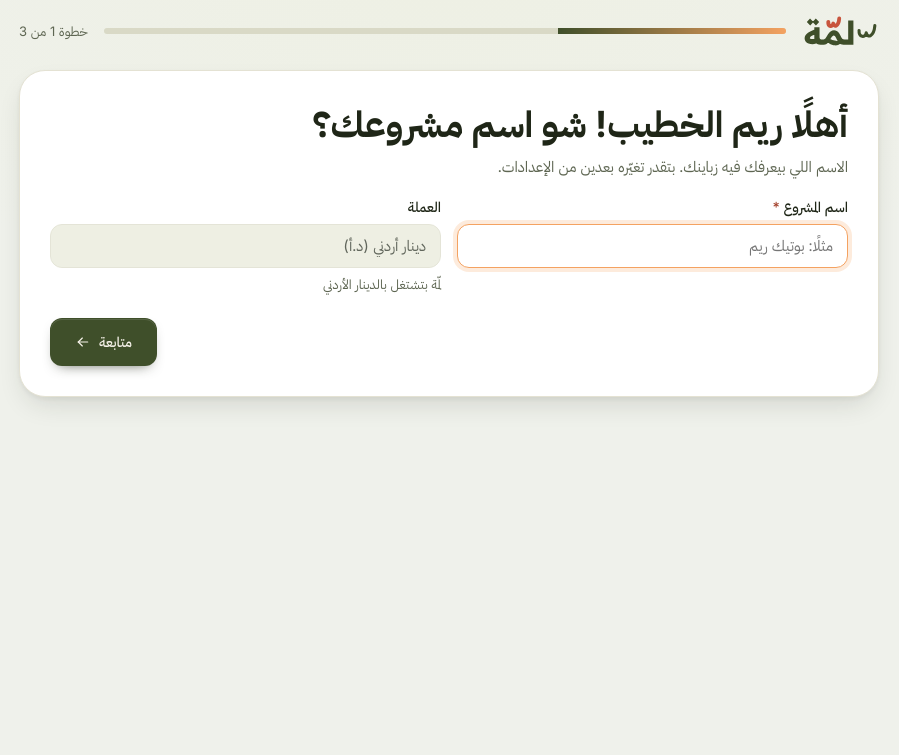
Scenario: onboarding › cannot finish with no channel selected
Type "x" into the field labelled "اسم المشروع *".
click(652, 246); type("x")  # box 470,225 -> 835,267
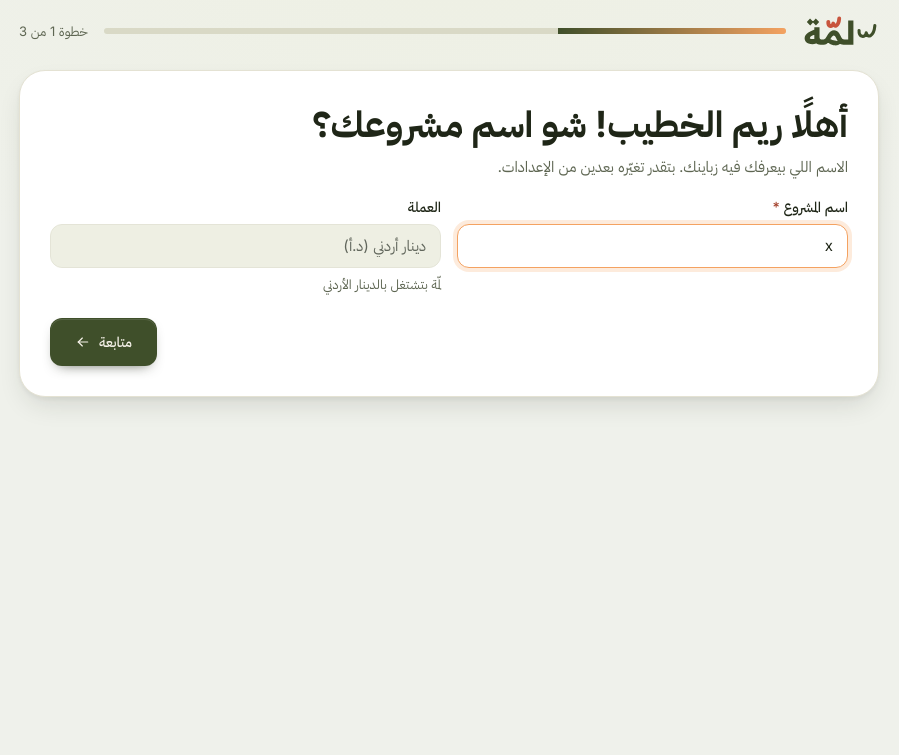
Click the button "متابعة".
click(103, 342)  # box 50,318 -> 157,366
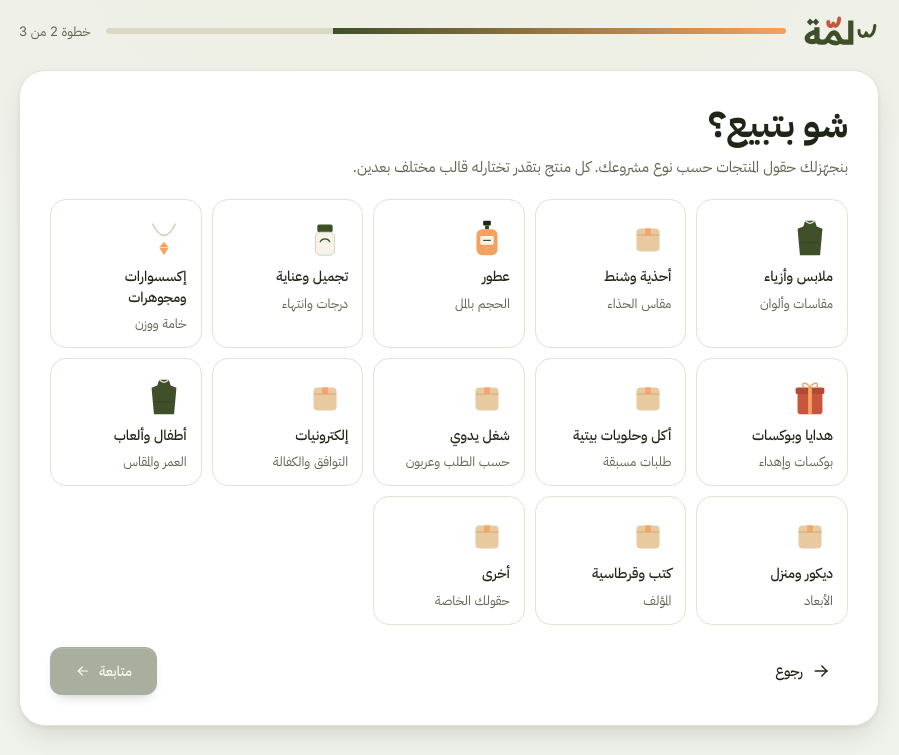
Click the radio button labelled "أخرى حقولك الخاصة".
click(449, 561)  # box 373,496 -> 525,625
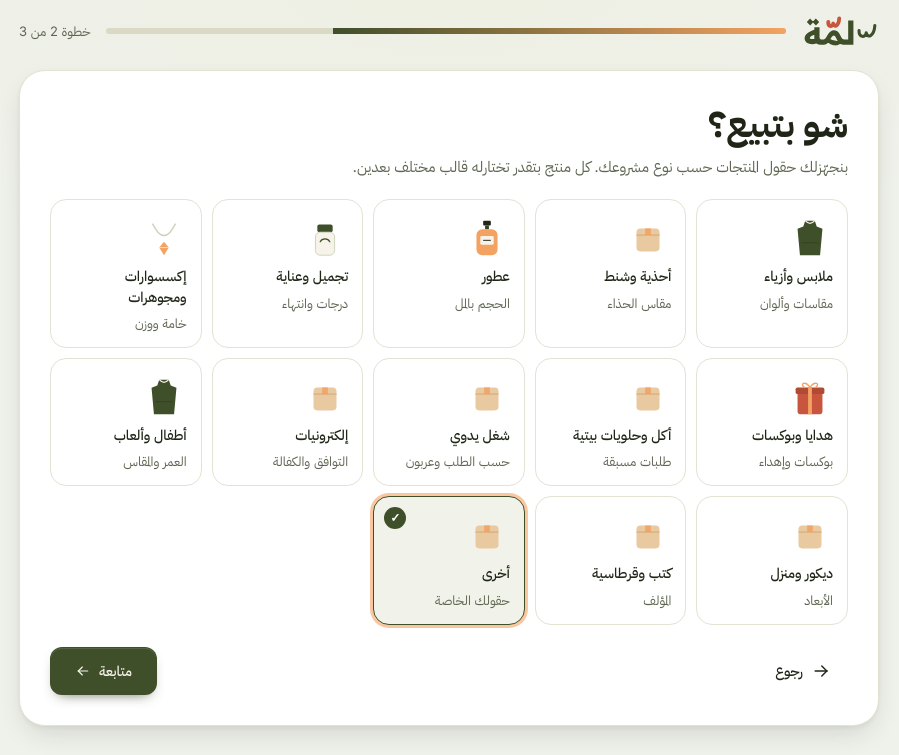
Click the button "متابعة".
click(103, 671)  # box 50,647 -> 157,695
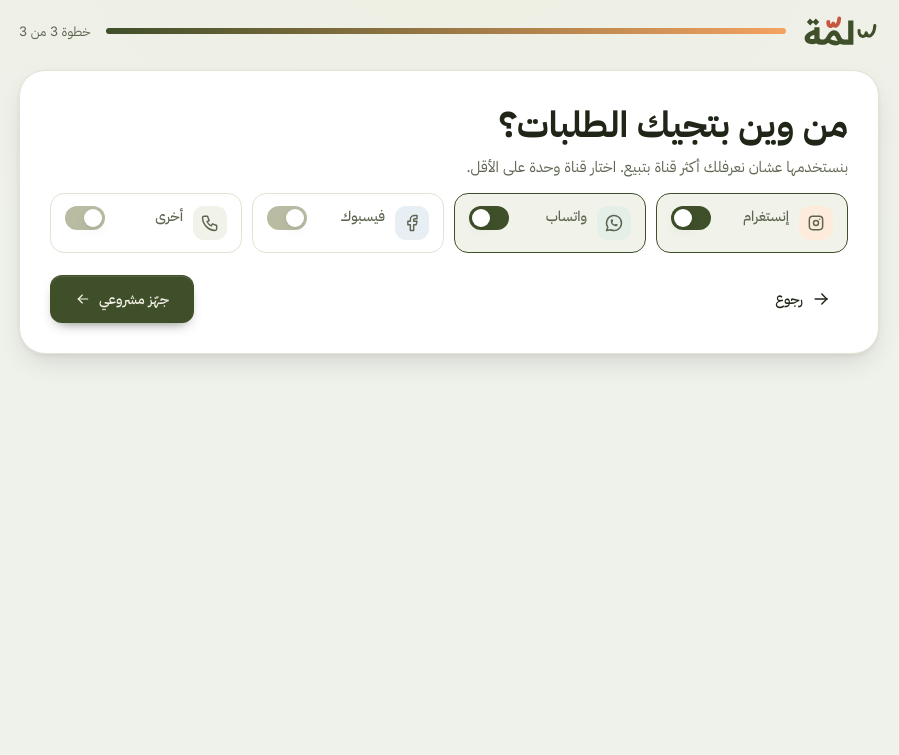
Click the switch labelled "إنستغرام".
click(691, 218)  # box 671,206 -> 711,230
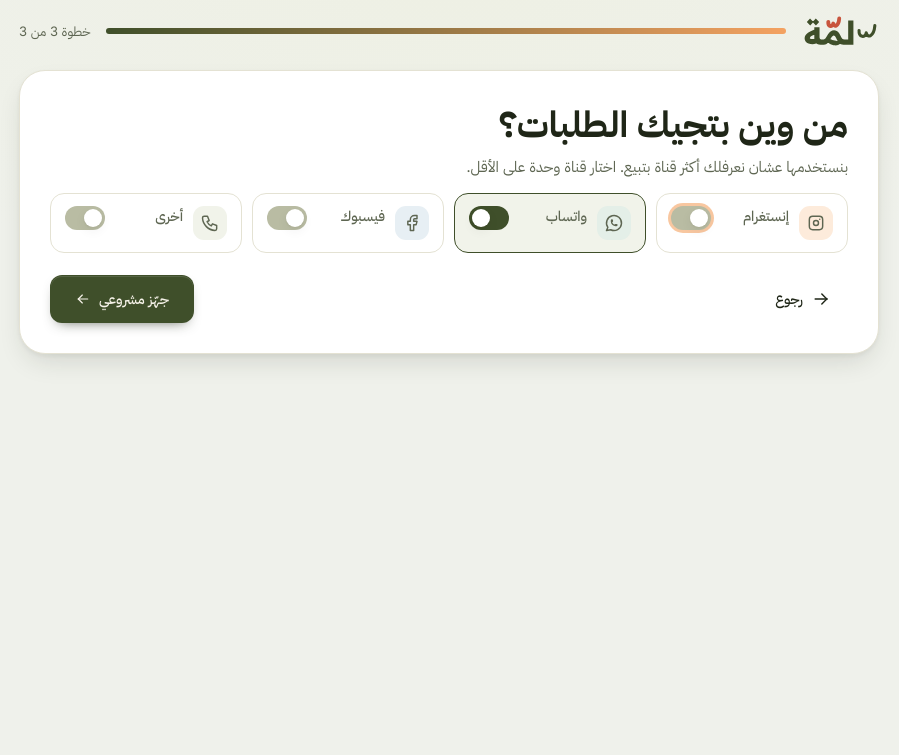
Click the switch labelled "واتساب".
click(489, 218)  # box 469,206 -> 509,230
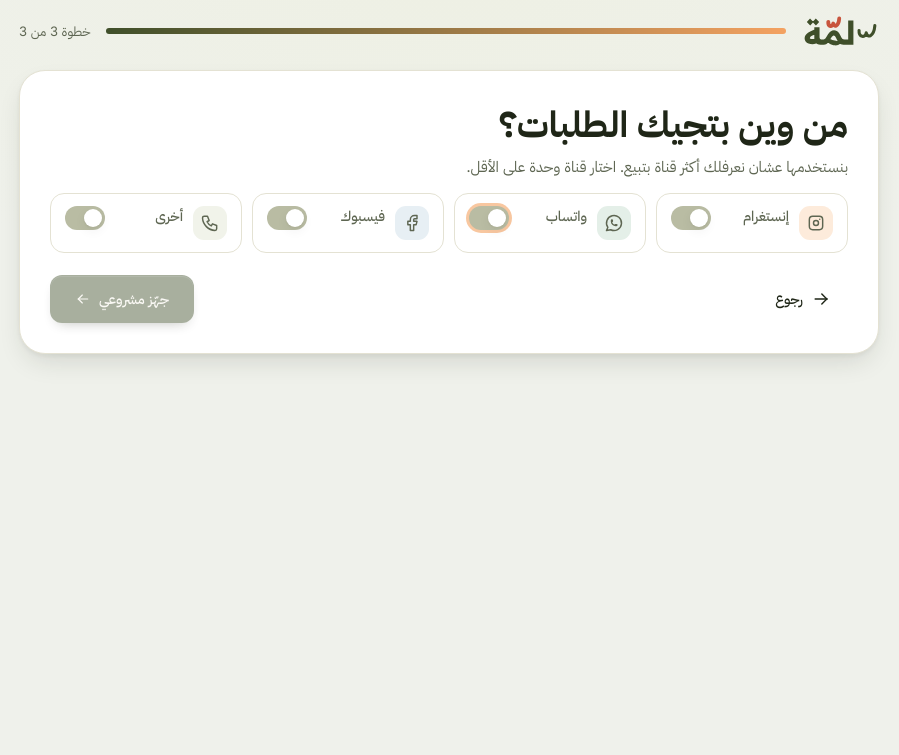
Check: the button "جهّز مشروعي" is disabled, box 50,275 -> 194,323
